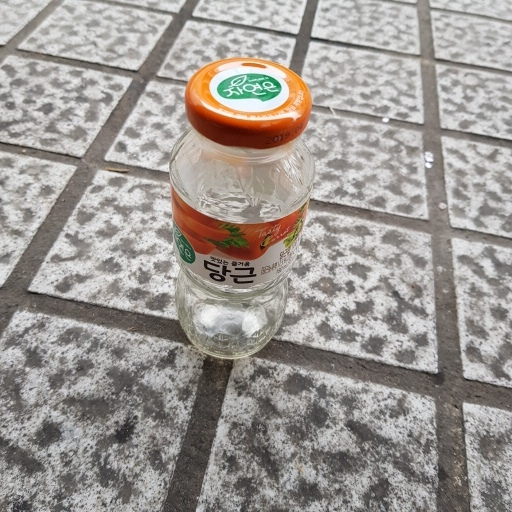Glass_4: (165, 57, 311, 368)
